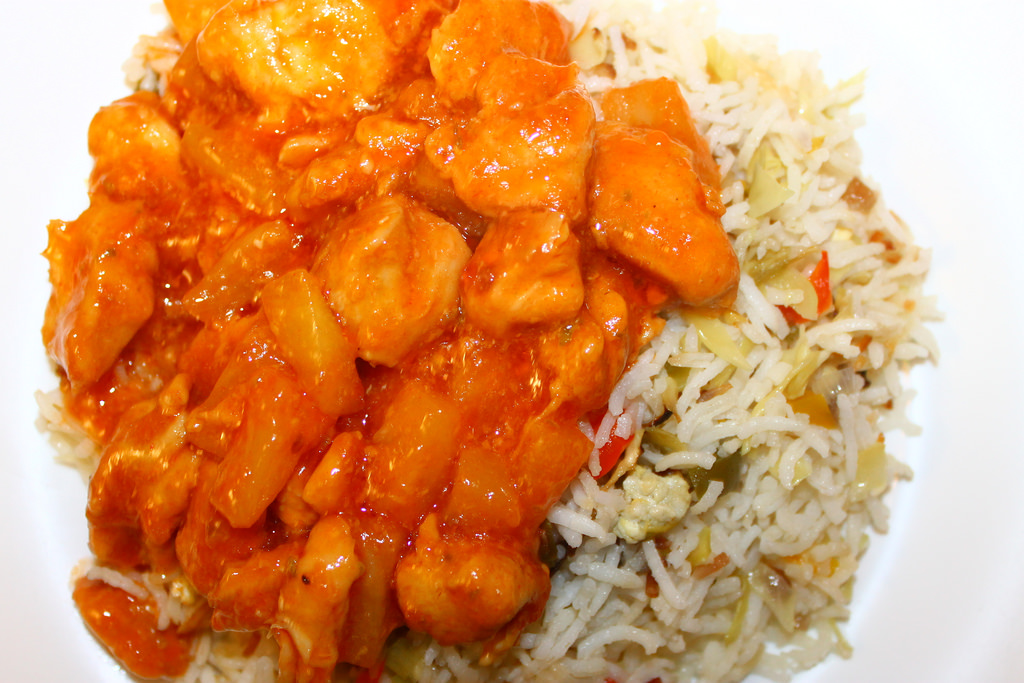plain rice: (666, 320, 865, 603)
